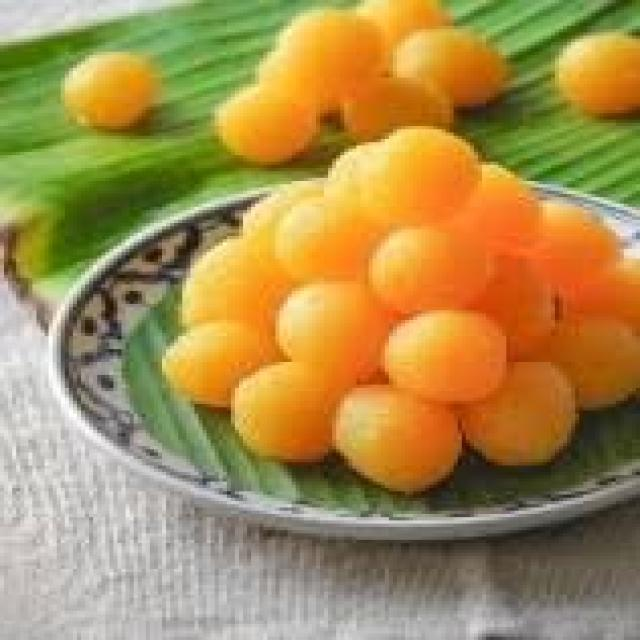Tongyord: (458, 366, 601, 478), (226, 351, 369, 452), (365, 226, 503, 327), (146, 308, 286, 404), (470, 150, 574, 256), (287, 268, 388, 375), (380, 131, 490, 229), (51, 45, 170, 135), (179, 229, 293, 319), (506, 244, 640, 318), (389, 313, 493, 408), (339, 388, 444, 482), (277, 8, 395, 91), (284, 209, 405, 288), (398, 30, 506, 113), (212, 88, 328, 158), (532, 318, 640, 390), (559, 23, 640, 116), (344, 62, 446, 134)
